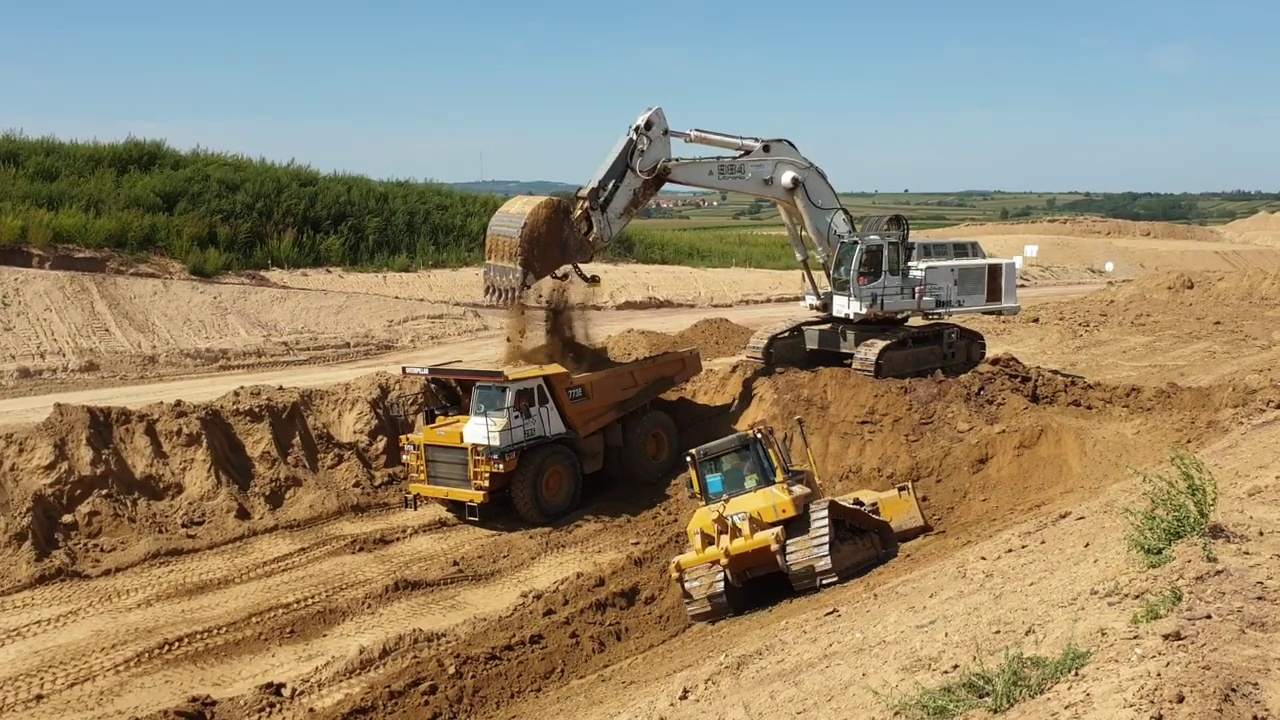bulldozer: (663, 413, 935, 624)
excavator: (480, 99, 1026, 381)
truck: (391, 348, 702, 536)
